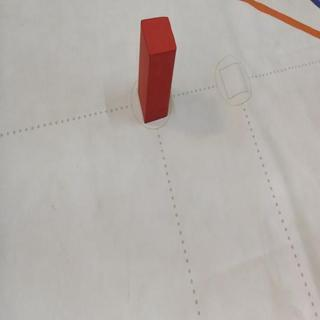redbox: (137, 16, 177, 124)
